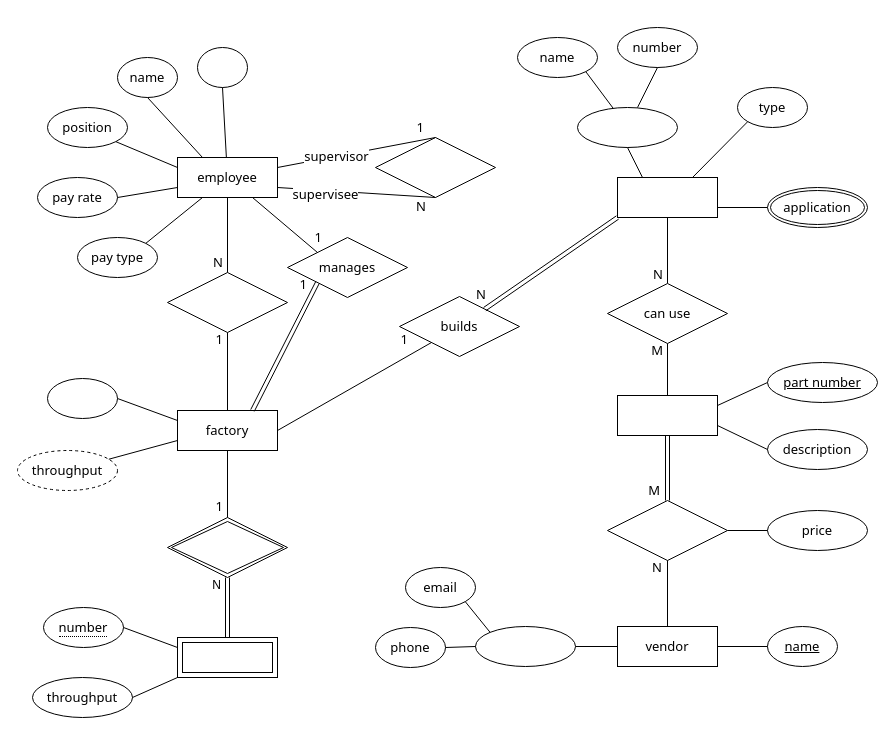
Image size: 895x744. Some labels were removed from this diagram. Here are the shapes that lost their labels. From the top down, the centre of each, then its label:
point (222, 67): ID
point (627, 127): designation
point (435, 167): supervises
point (667, 197): model
point (227, 302): works at
point (82, 398): city
point (667, 415): part
point (227, 547): contains
point (667, 530): supplies
point (227, 657): assembly line
point (525, 646): contact info
